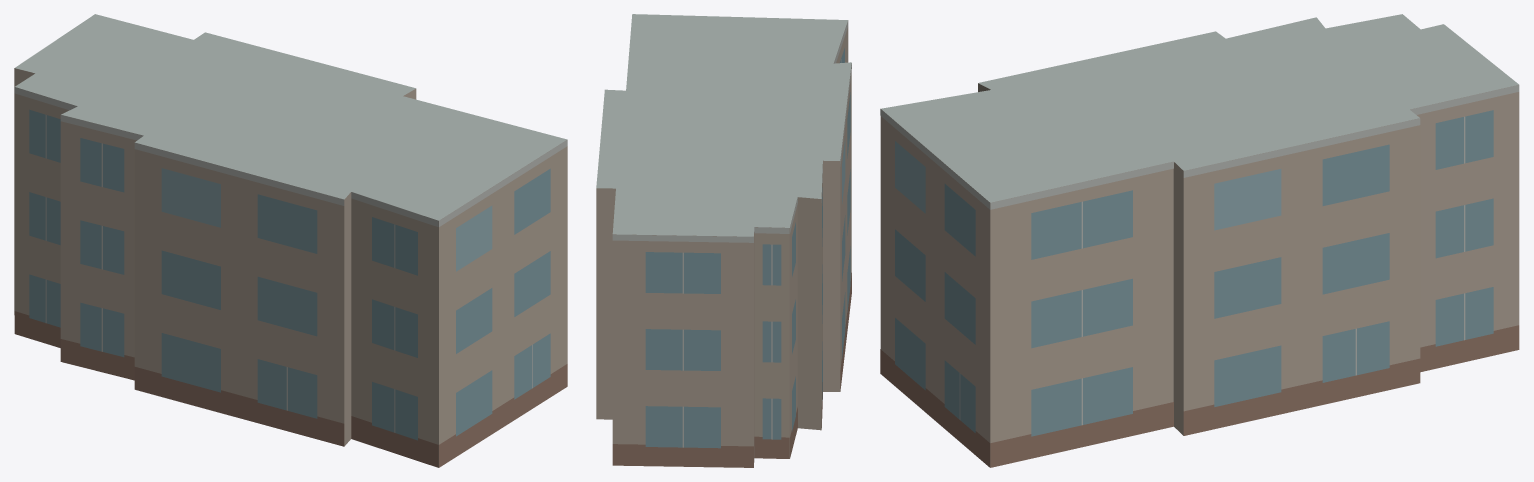
File: survey-upis-32875155.glb
The picture shows the model from 3 angles, left to right: view 1: azimuth 30°, elevation 25°; view 2: azimuth 150°, elevation 25°; view 3: azimuth 270°, elevation 25°; orthographic projection. The views are drawn at different scales.
Visible parts, largest first — view 1: survey-upis-32875155.tmp; view 2: survey-upis-32875155.tmp; view 3: survey-upis-32875155.tmp.
Boxes of the visible parts, x1,y1,x2,y2 form: survey-upis-32875155.tmp: (14,14,567,467); survey-upis-32875155.tmp: (596,14,851,467); survey-upis-32875155.tmp: (880,14,1519,467).
Bounding box in the file's own units: 13.99 × 9.15 × 19.99.
